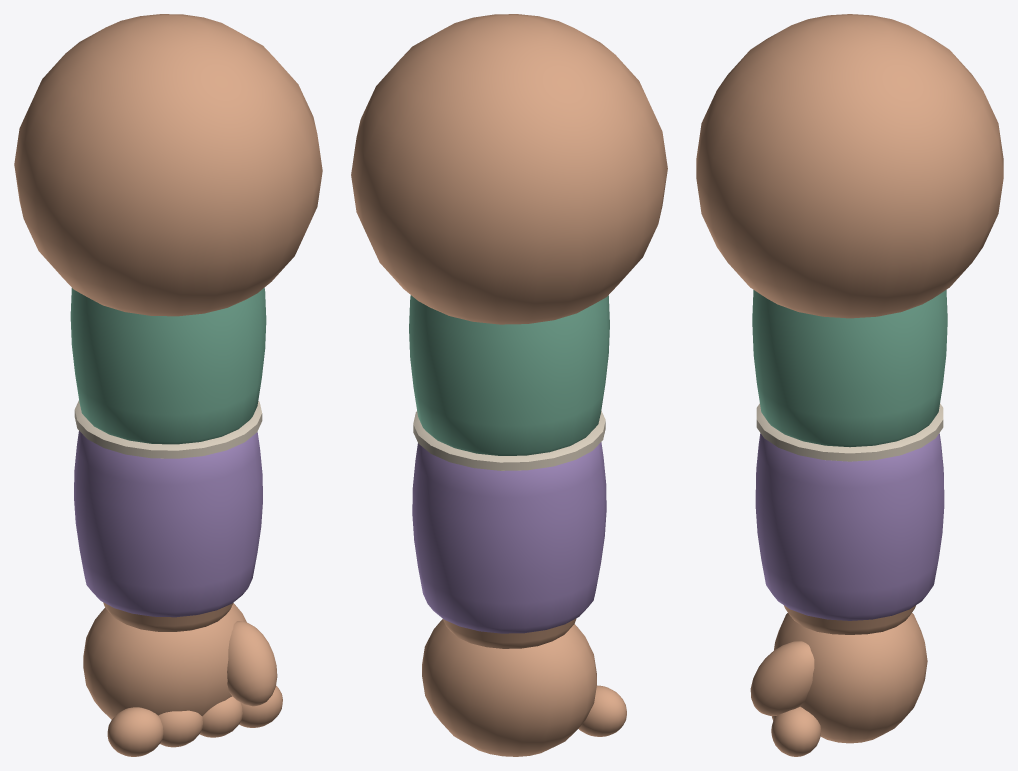
File: Arm_Brute_L.fbx
3 renders of one model, left to right at view 1: azimuth 30°, elevation 25°; view 2: azimuth 150°, elevation 25°; view 3: azimuth 270°, elevation 25°, orthographic. The views are drawn at different scales.
Parts seen in each view (by area): view 1: Arm_Brute_L; view 2: Arm_Brute_L; view 3: Arm_Brute_L.
Boxes of the visible parts, x1,y1,x2,y2 form: Arm_Brute_L: (14,14,322,756); Arm_Brute_L: (351,14,667,756); Arm_Brute_L: (696,14,1003,756).
Size of the model in its own units: 0.13 by 0.3263 by 0.1287.
